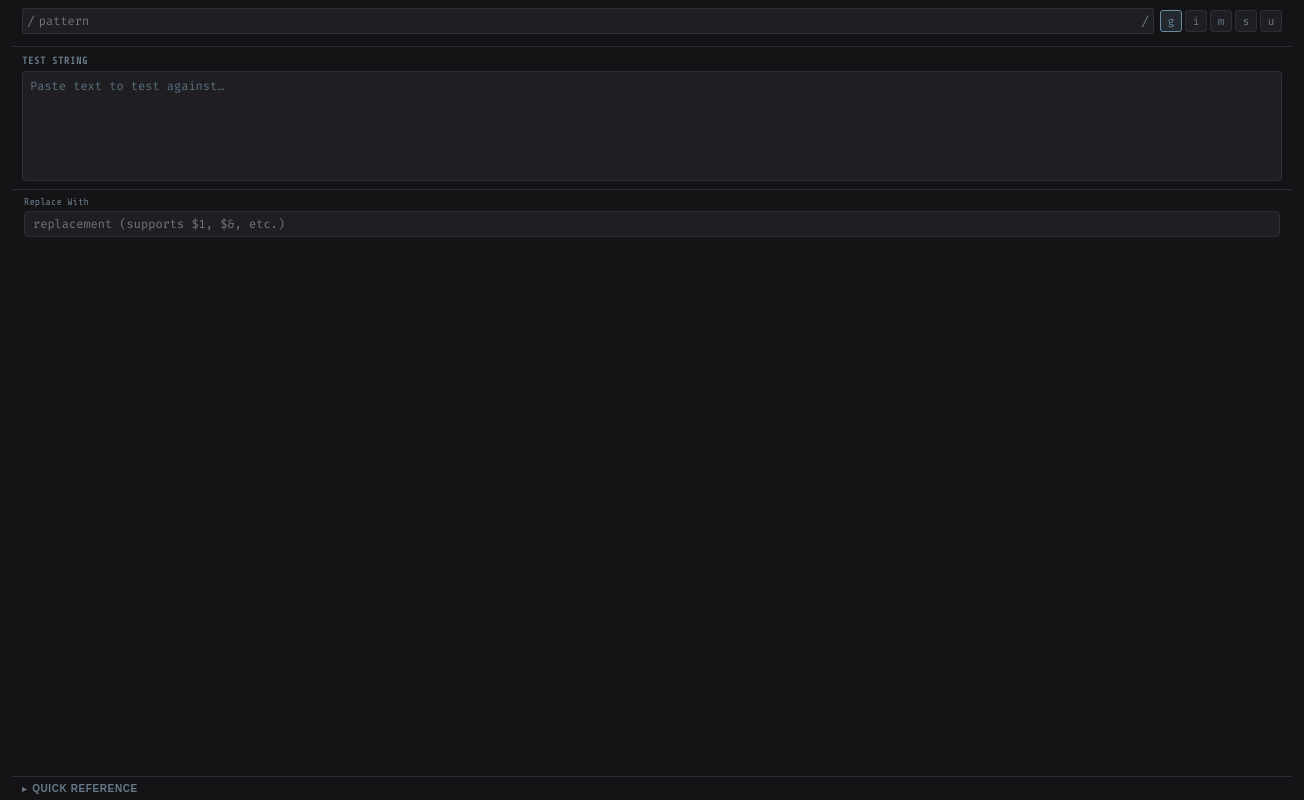
Test case: RegexPanel › turning off g flag stops after first match
# Turn off global flag
Click the button "g" at (1171, 21), box 1160,10 -> 1182,32
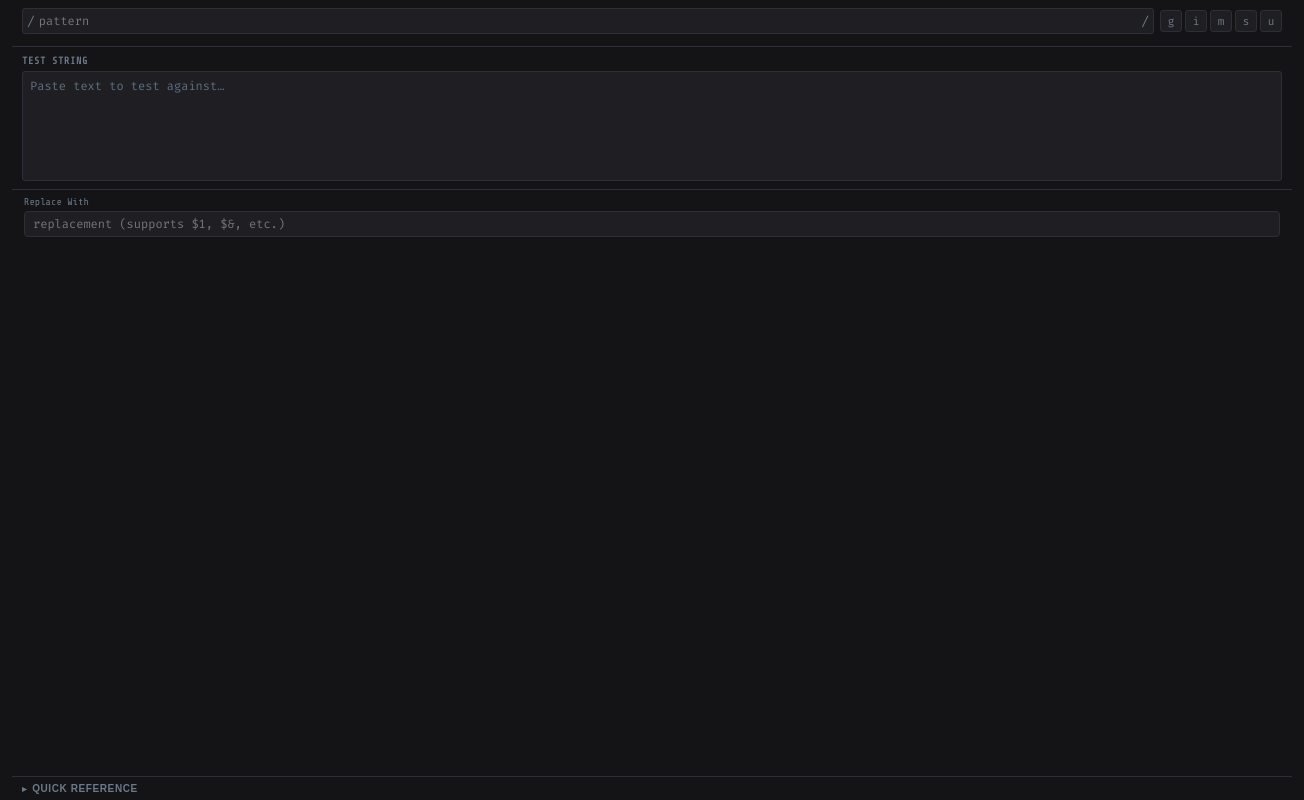
Type "\\w+" into the field labelled "pattern" at (588, 21), box 39,9 -> 1137,33
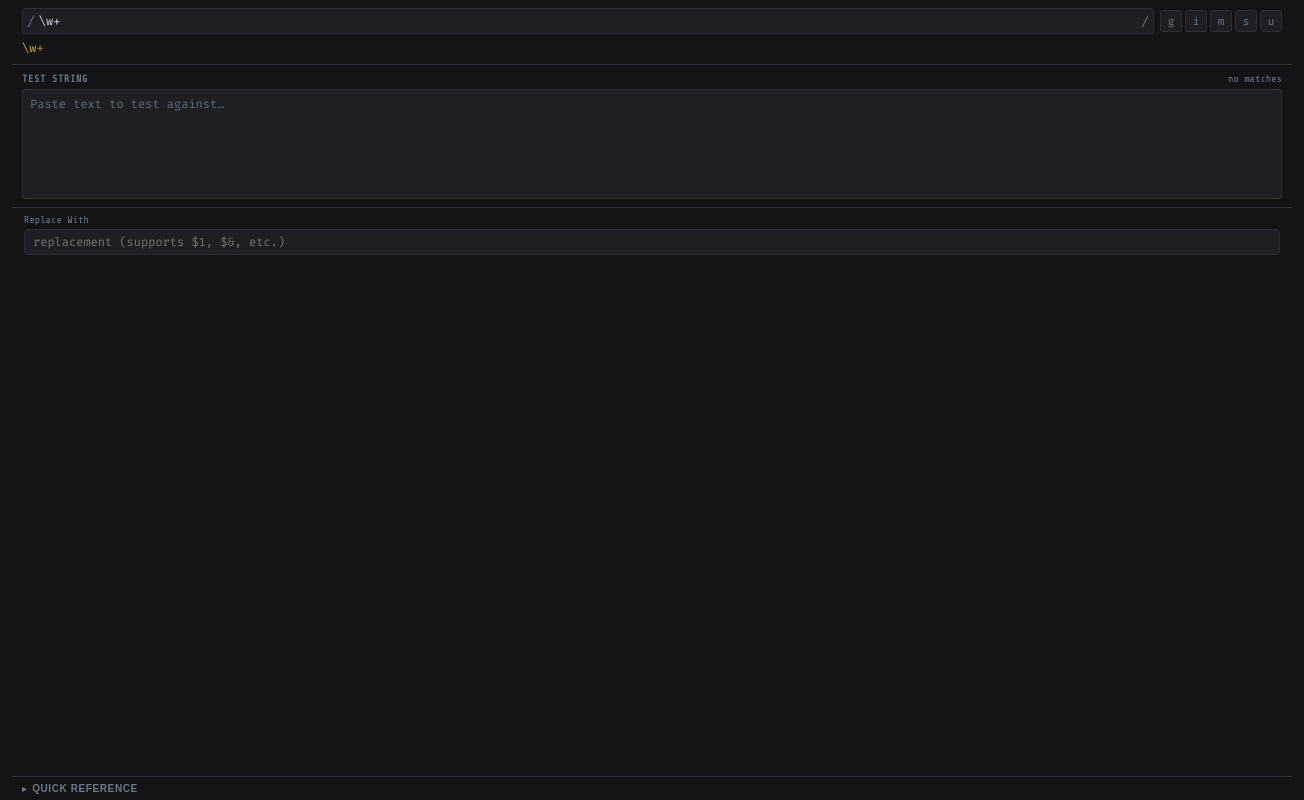
Type "hello world" into the text box named "test string" at (652, 144), box 23,90 -> 1281,198
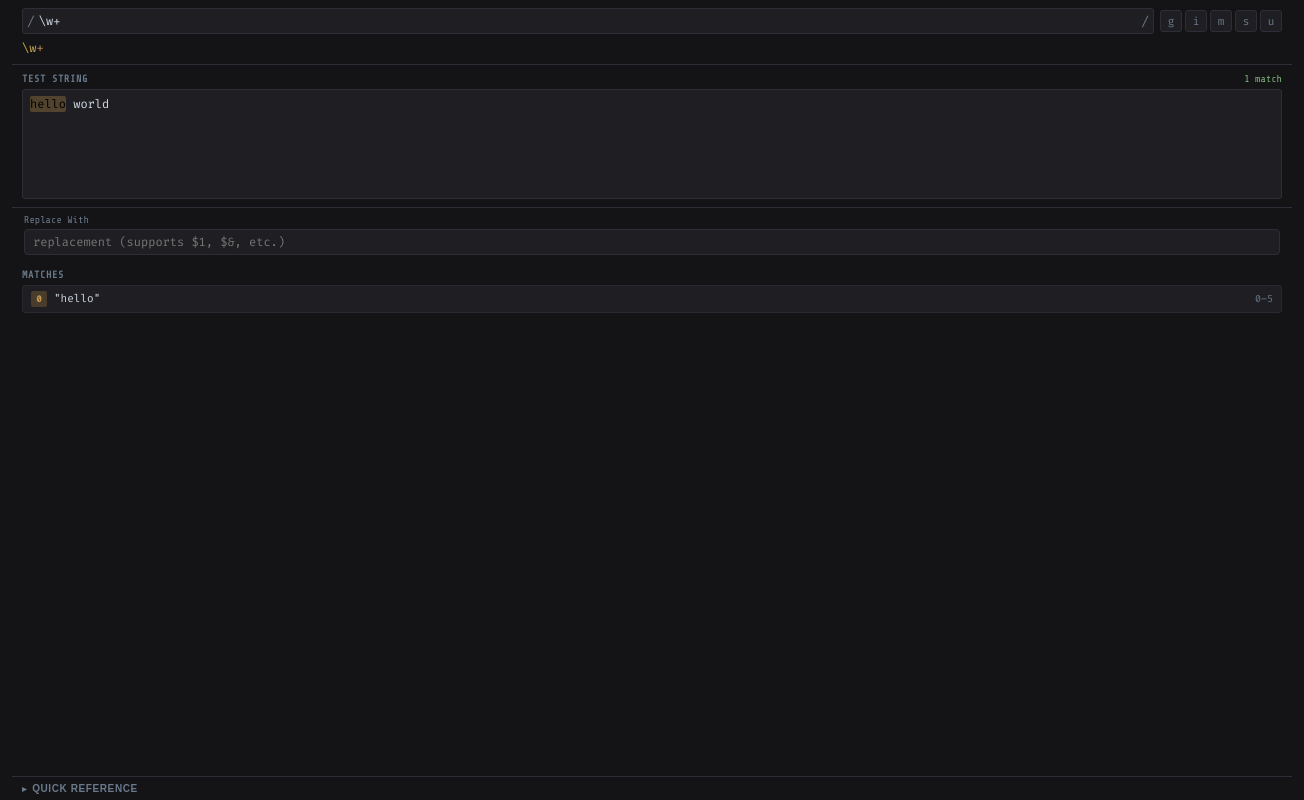
Now the text "1 match" is shown, box 1244,73 -> 1282,84
